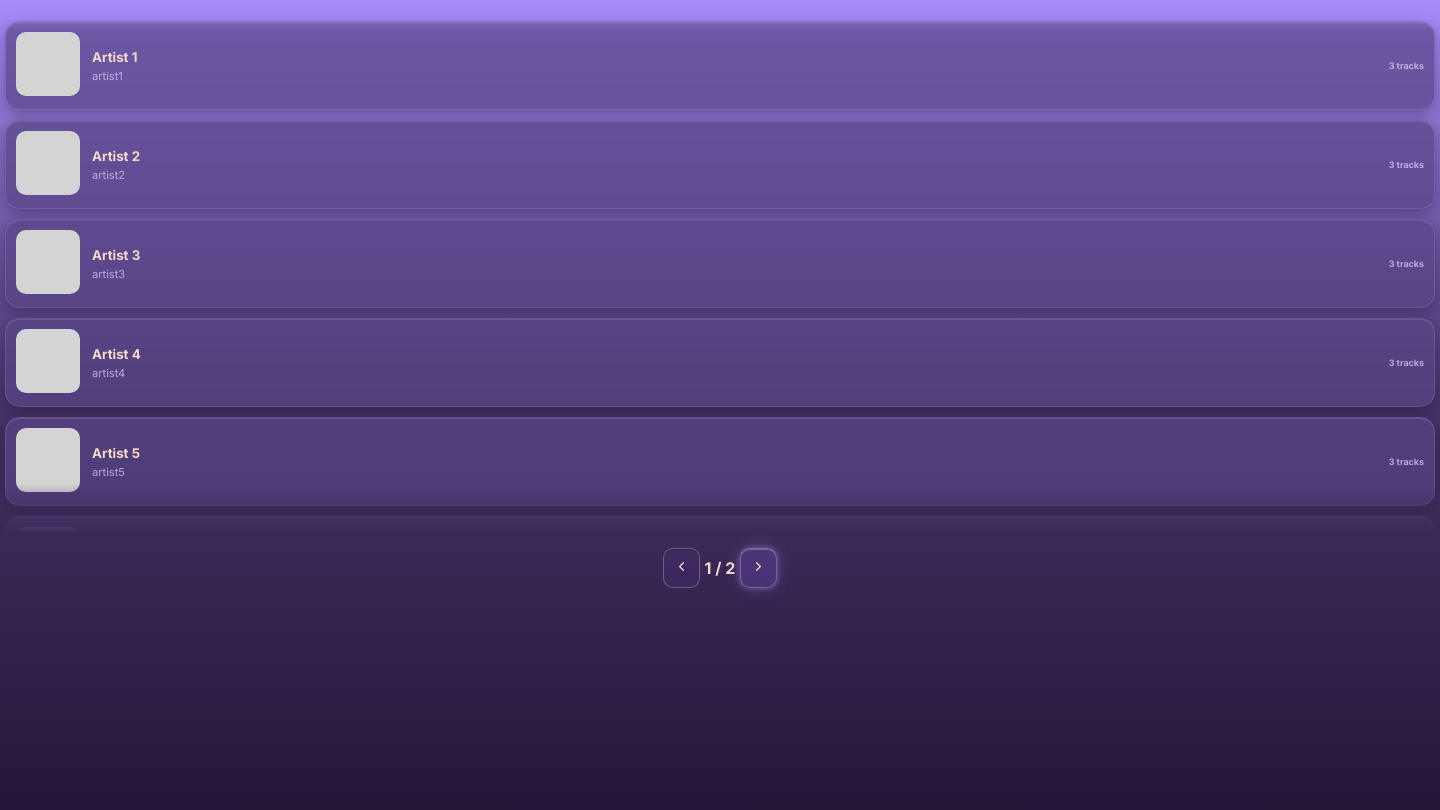
Test case: ArtistSearchList › paginates at 10 artists per page
Expected: the text "Artist 11" is not shown
Click the 2nd button with alt text "next": (758, 568) [740,548,777,588]
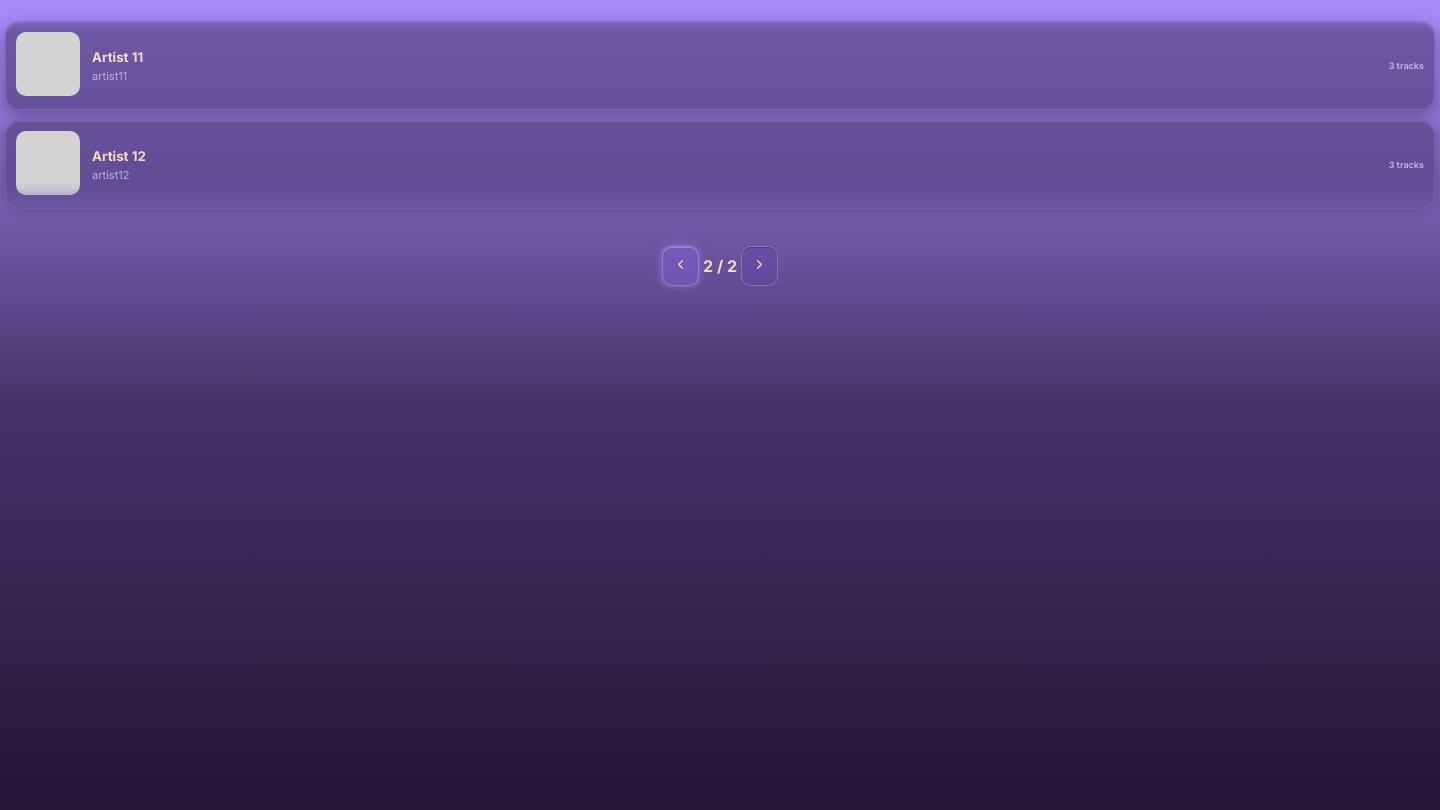
Expected: the heading "Artist 11" is shown, [92,48,143,64]
